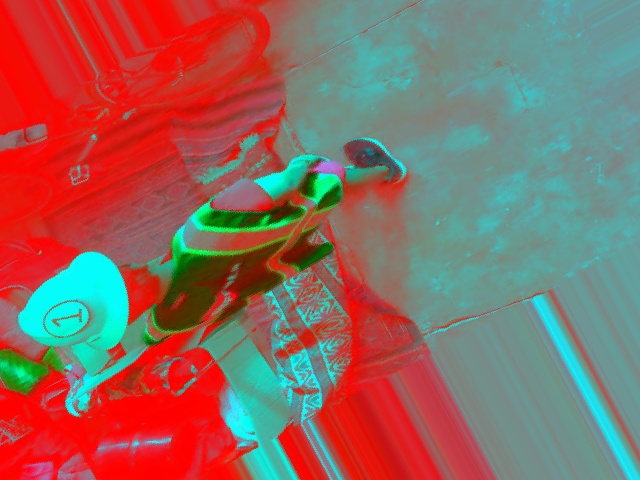one: (37, 292, 94, 345)
